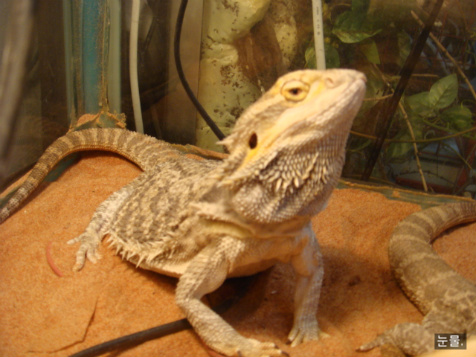bearded: (1, 65, 369, 355)
